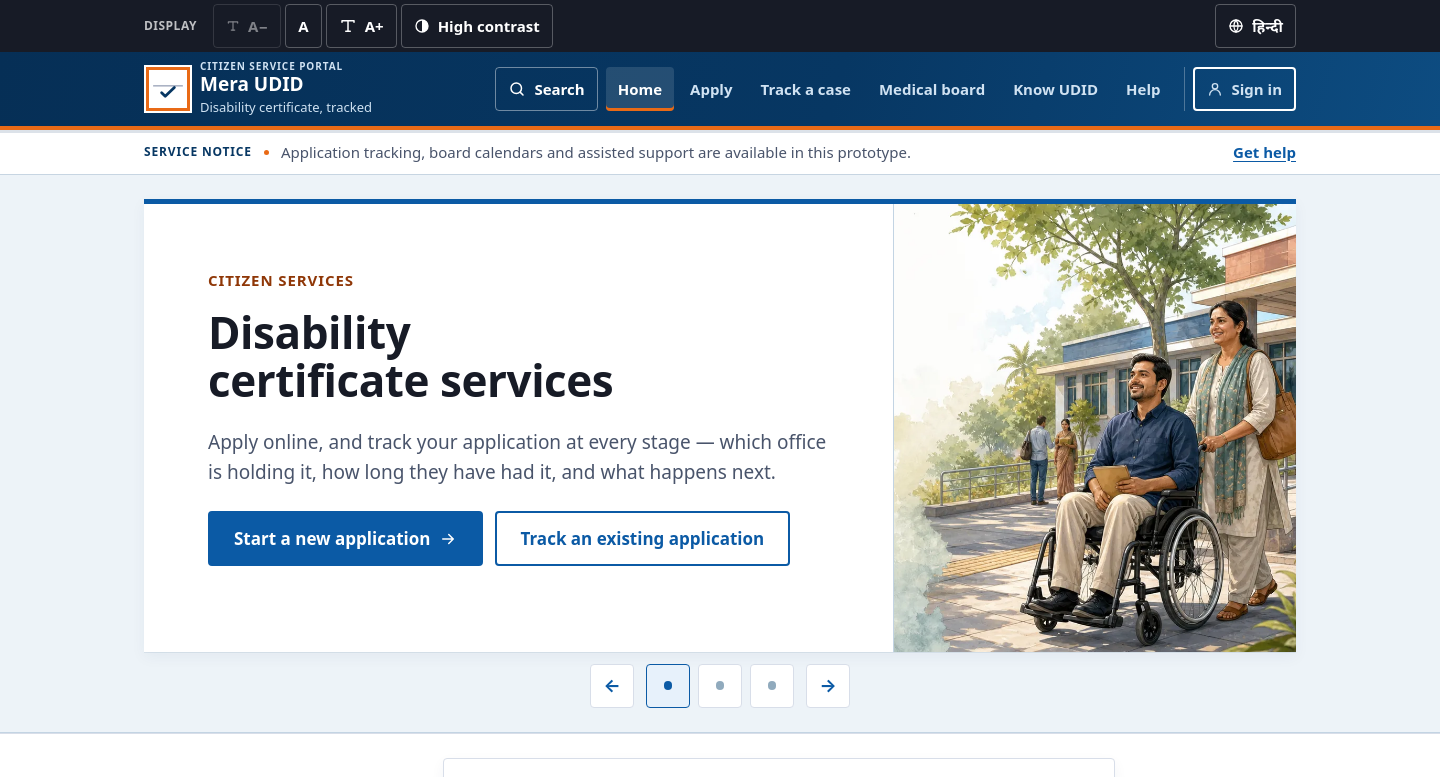
home › switches the whole page to Hindi, without using the rejected terminology
Click the button named "switch language".
click(1256, 26)  # box [1215,4,1296,48]
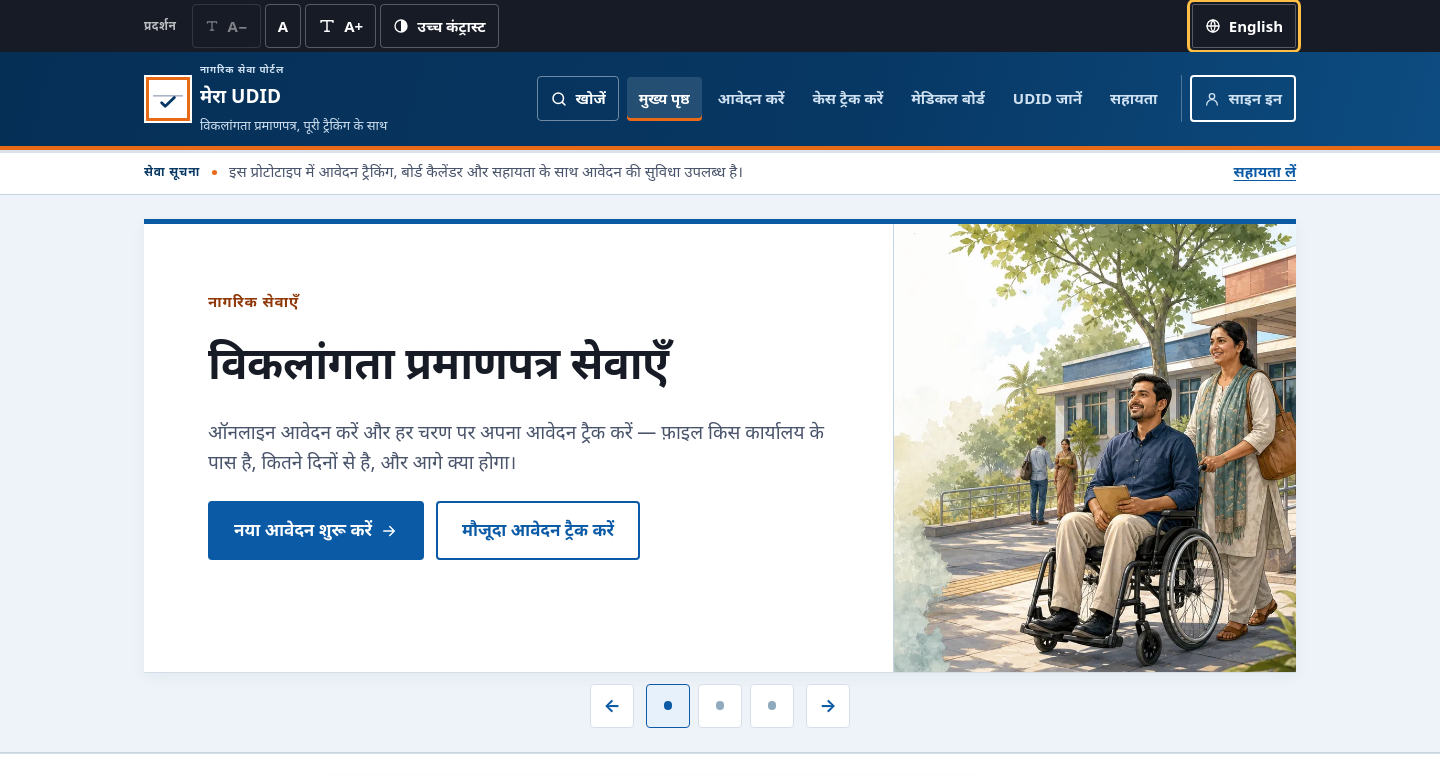
Expected: the text "दिव्यांग" is not shown
Expected: the heading "विकलांगता प्रमाणपत्र सेवाएँ" is shown, [208,331,711,394]
